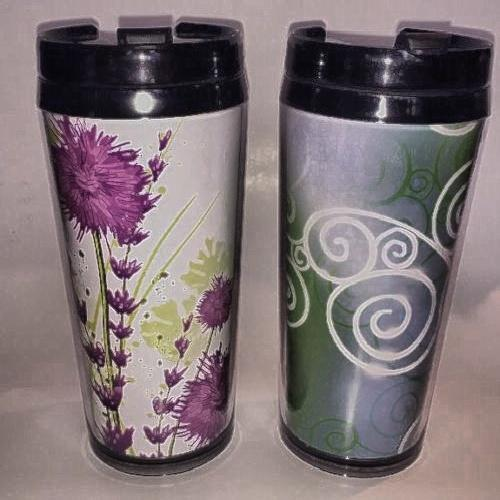mug: (48, 23, 260, 478), (284, 23, 479, 479)
